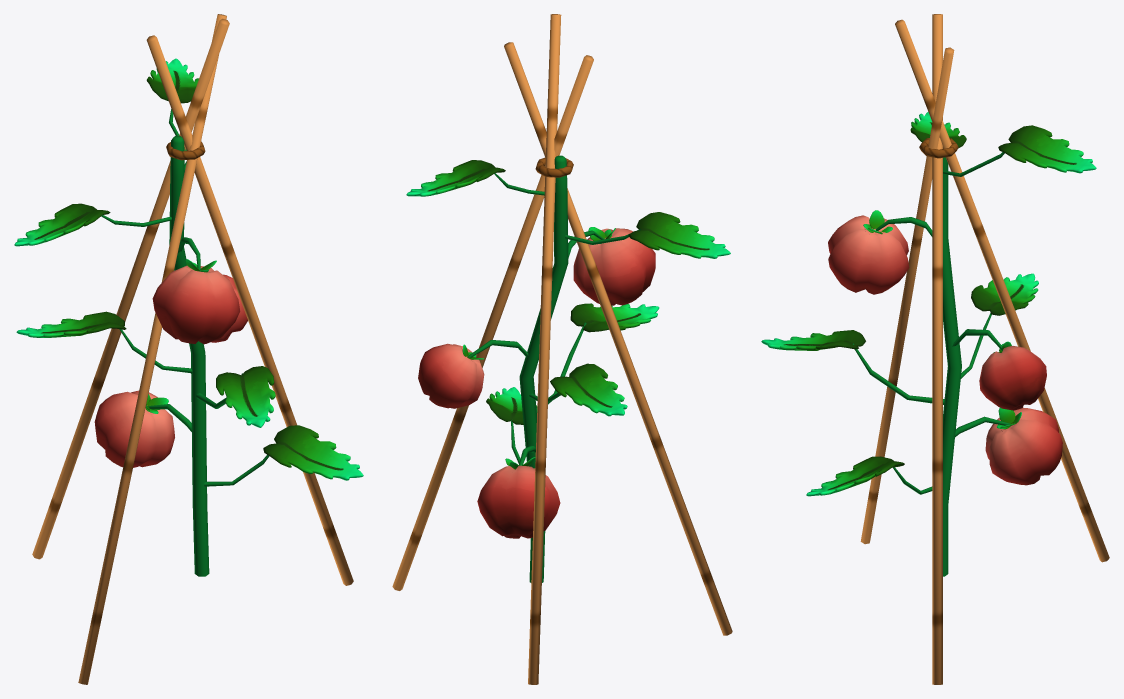
The model's file is Veg_tomato_L.fbx.
The picture shows the model from 3 angles, left to right: view 1: azimuth 30°, elevation 25°; view 2: azimuth 150°, elevation 25°; view 3: azimuth 270°, elevation 25°; orthographic projection. The views are drawn at different scales.
Parts seen in each view (by area): view 1: Cylinder.010; view 2: Cylinder.010; view 3: Cylinder.010.
Part boxes in pixels (x1,y1,x2,y2): Cylinder.010: (14, 14, 363, 684); Cylinder.010: (392, 14, 732, 684); Cylinder.010: (761, 14, 1109, 684).
Bounding box in the file's own units: 51.81 × 57.19 × 97.8.
